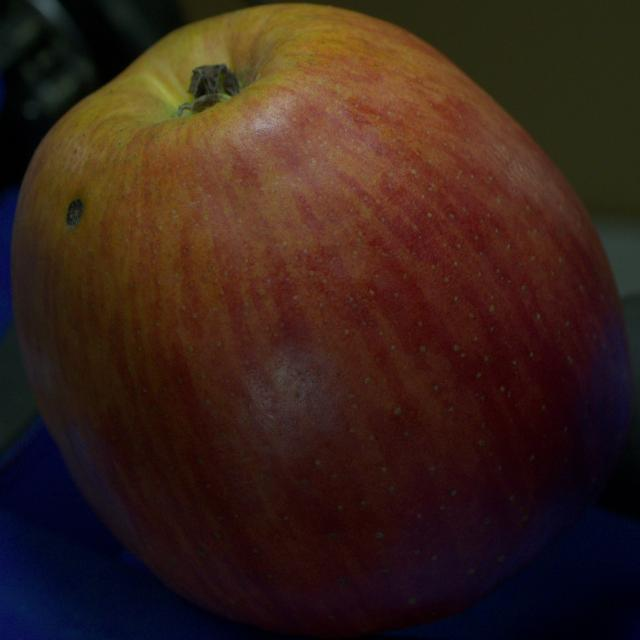apple: (11, 4, 632, 638)
pest: (67, 199, 83, 226)
